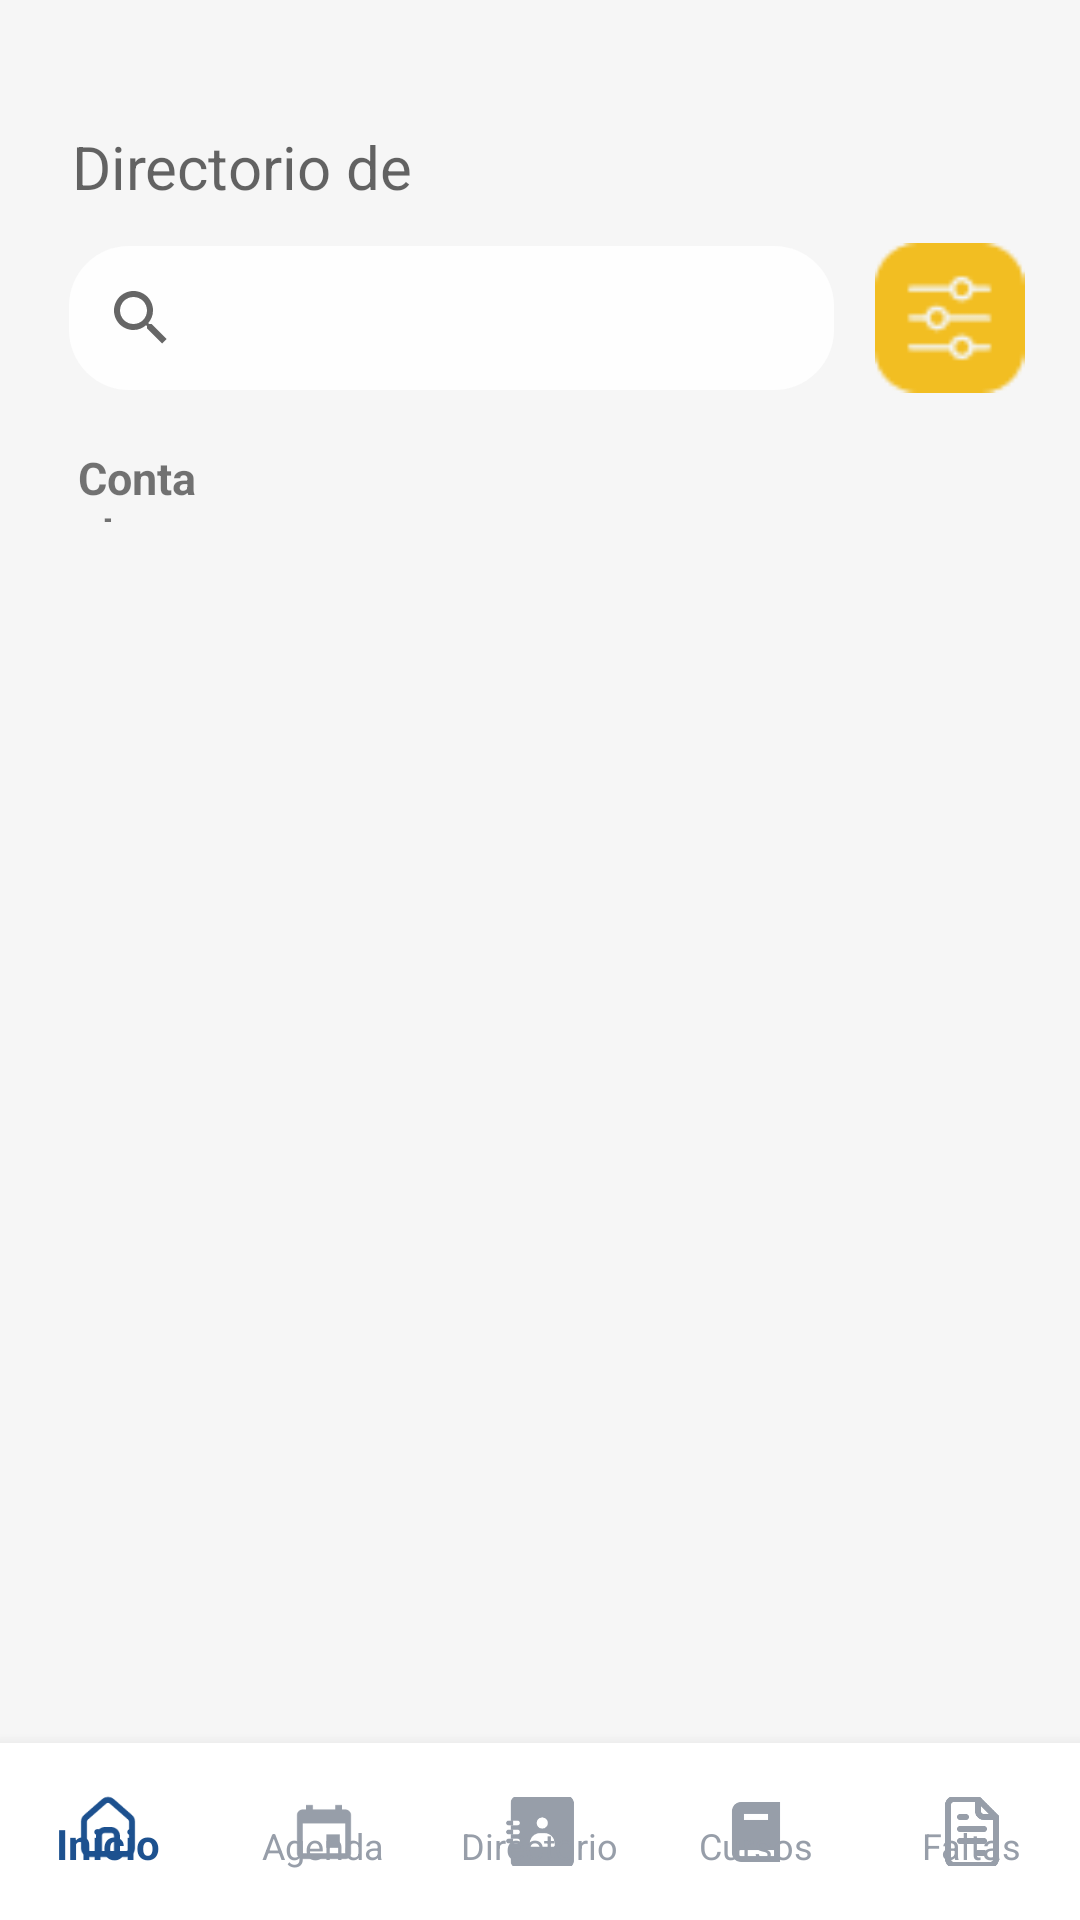

Named icons in this screenshot (1080 x 1920) and their bounding boxes, detection(x1, y1, x2, y2):
filter: detection(875, 243, 1025, 393)
